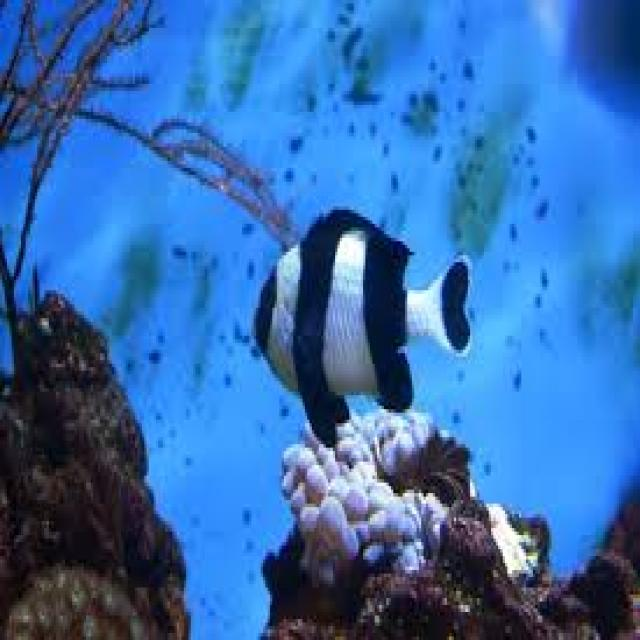ThreeStripedDamselfish: (247, 202, 474, 452)
